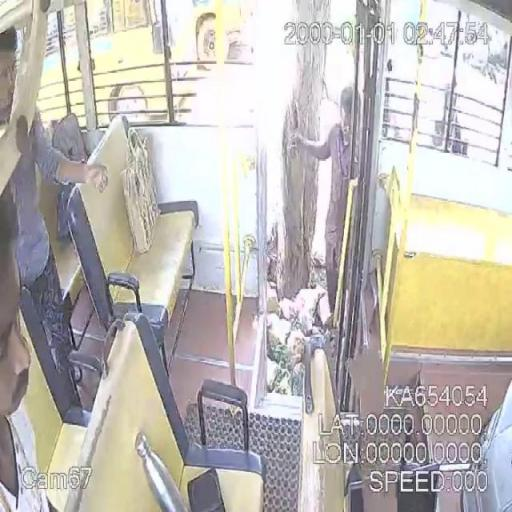persona: (8, 112, 108, 374), (0, 183, 54, 511), (289, 85, 360, 326)
